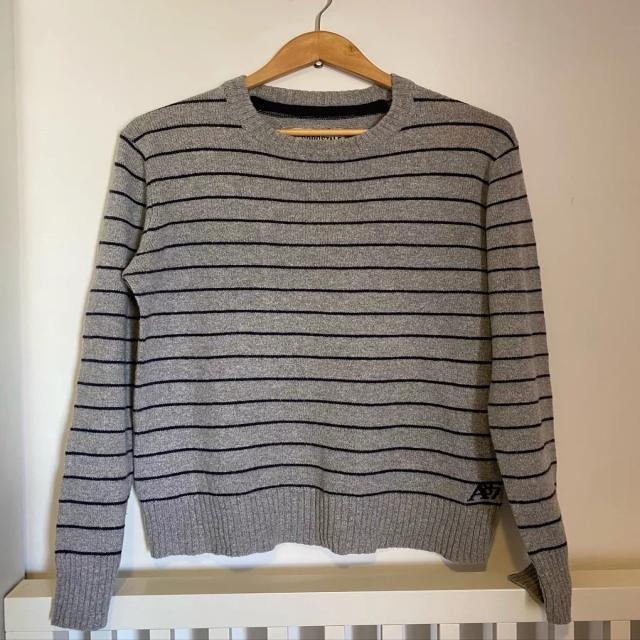sweater: (49, 64, 576, 629)
